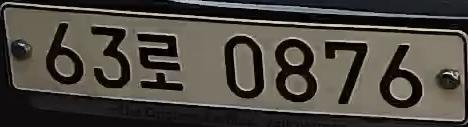0: (218, 33, 272, 102)
3: (88, 20, 133, 90)
6: (372, 38, 428, 111), (36, 15, 88, 86)
7: (321, 37, 371, 110)
8: (269, 34, 323, 105)
로: (134, 27, 188, 94)
